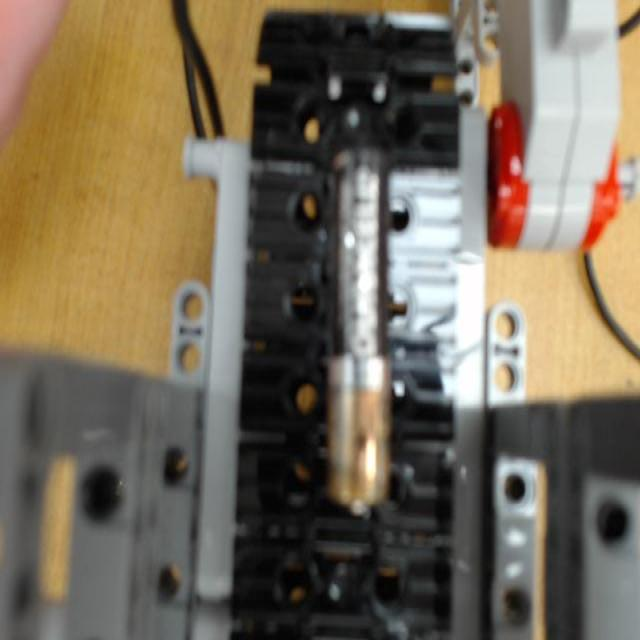AAA: (322, 132, 392, 517)
